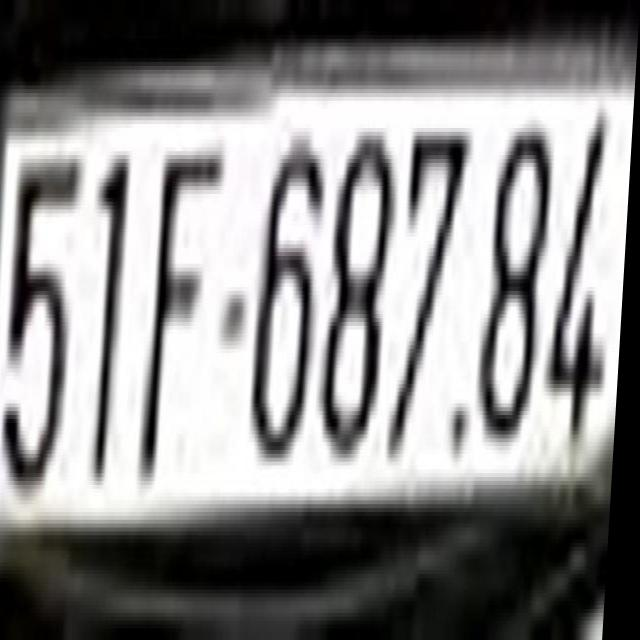1: (86, 140, 136, 484)
4: (549, 112, 619, 474)
5: (2, 120, 87, 528)
6: (253, 104, 331, 470)
7: (395, 101, 476, 458)
8: (476, 93, 556, 454), (324, 100, 400, 470)
F: (143, 143, 223, 481)
